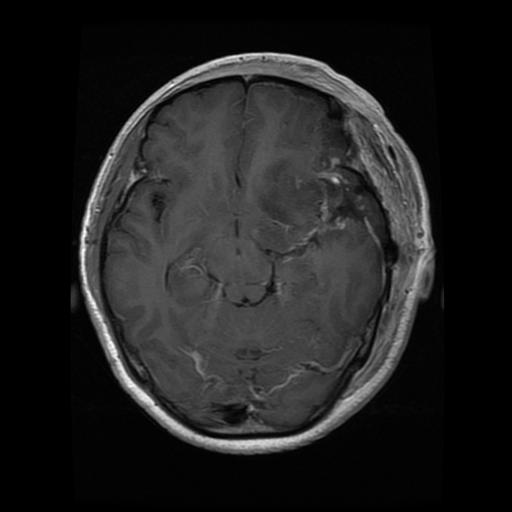Gliomia_tumour: (249, 154, 383, 254)
